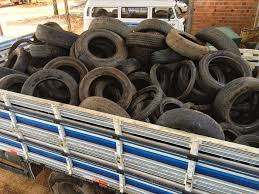tire: (157, 107, 225, 156), (78, 65, 135, 114), (212, 76, 259, 135), (21, 69, 80, 116), (197, 50, 254, 95), (73, 27, 130, 69), (150, 55, 198, 102), (42, 56, 91, 102), (195, 27, 242, 63), (165, 27, 213, 59), (33, 23, 83, 47), (128, 85, 164, 116), (123, 31, 171, 48), (3, 48, 31, 76), (133, 19, 174, 35), (29, 43, 72, 58)
